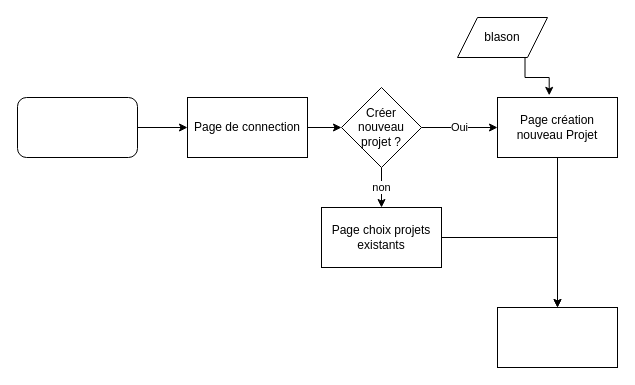
Image size: 635x385. Some labels were removed from this diagram. The centre of each missing label's shape, as x and y in pixels:
"Lancement du logiciel" belongs at point (77, 127).
"Page Accueil Projet" belongs at point (557, 337).
